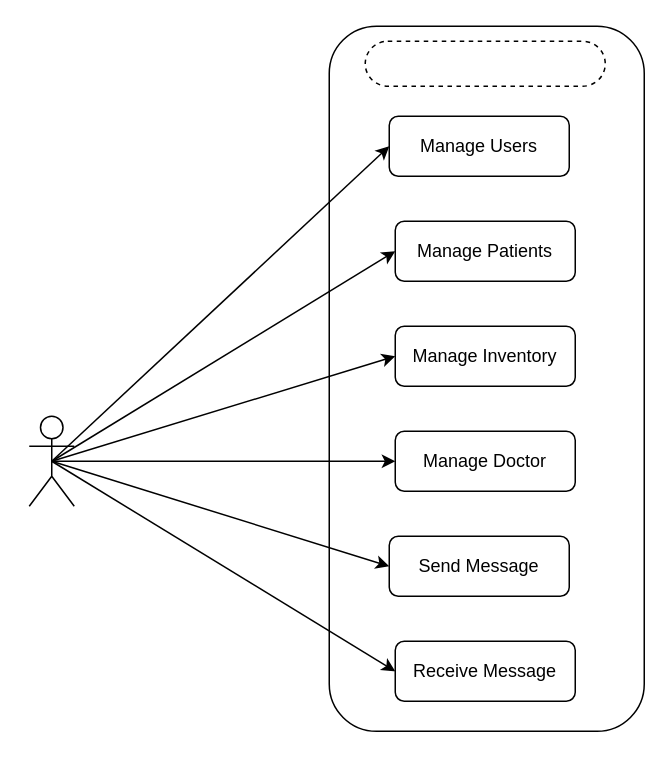
The diagram is 671 pixels wide and 758 high, and some of its shapes have lost their labels. Here are the shapes that lost their labels. From the top down, the centre of each, then its label:
At [484,63]: "Clinic Management System".
At [51,460]: "Admin".
